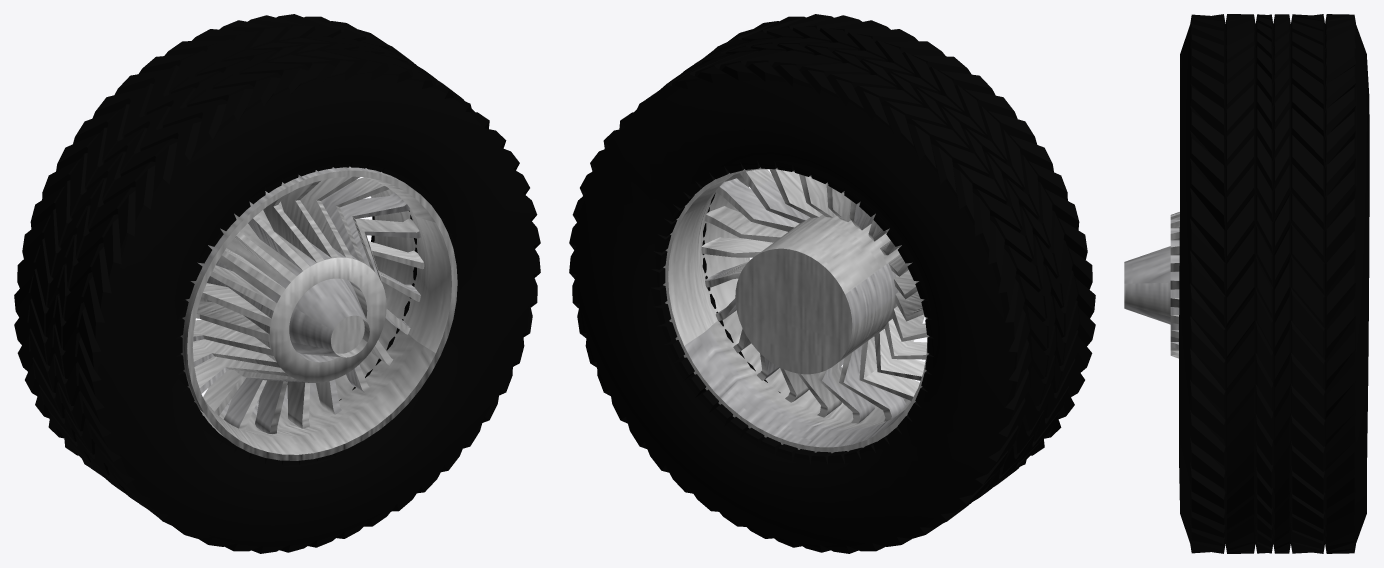
File: Llanta.obj
3 views of the same model, side by side, from view 1: azimuth 30°, elevation 25°; view 2: azimuth 150°, elevation 25°; view 3: azimuth 270°, elevation 25° (orthographic). The views are drawn at different scales.
Parts seen in each view (by area): view 1: pPipe6; view 2: pPipe6; view 3: pPipe6.
Part boxes in pixels (left/top/right/bottom): pPipe6: left=14, top=14, right=540, bottom=553; pPipe6: left=569, top=14, right=1095, bottom=553; pPipe6: left=1124, top=14, right=1369, bottom=553.
Bounding box in the file's own units: 10.8 × 10.8 × 4.91.
Materials: 2 (2 with a texture image).
